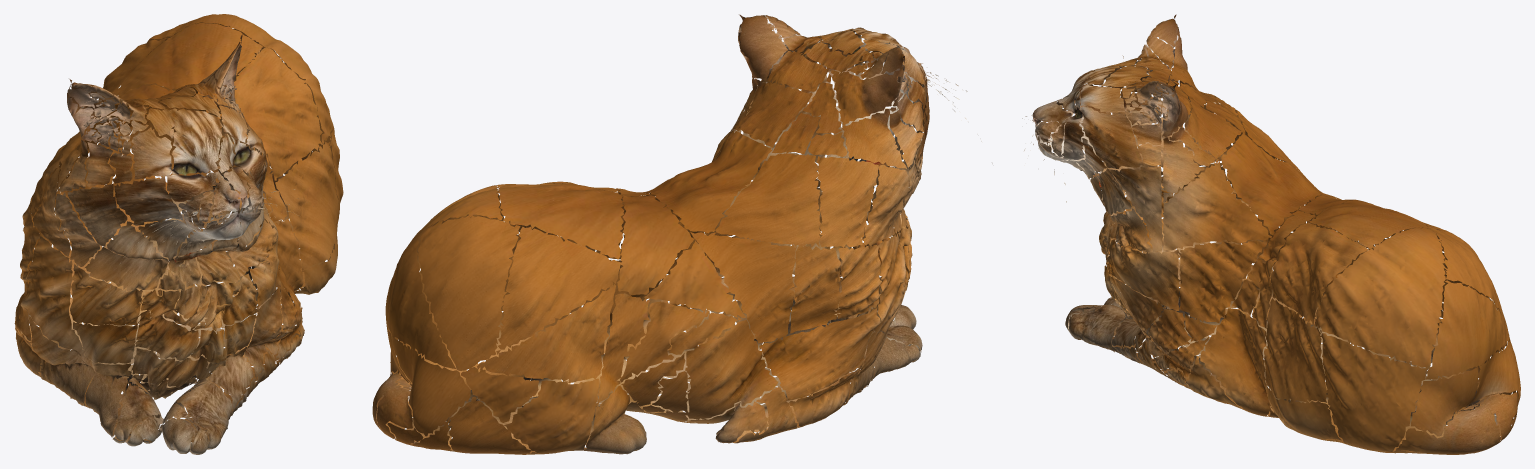
The model's file is momo.glb.
3 views of the same model, side by side, from view 1: azimuth 30°, elevation 25°; view 2: azimuth 150°, elevation 25°; view 3: azimuth 270°, elevation 25° (orthographic). The views are drawn at different scales.
Bounding box in the file's own units: 0.4264 × 0.3431 × 0.5286.
Materials: 1 (1 with a texture image).
